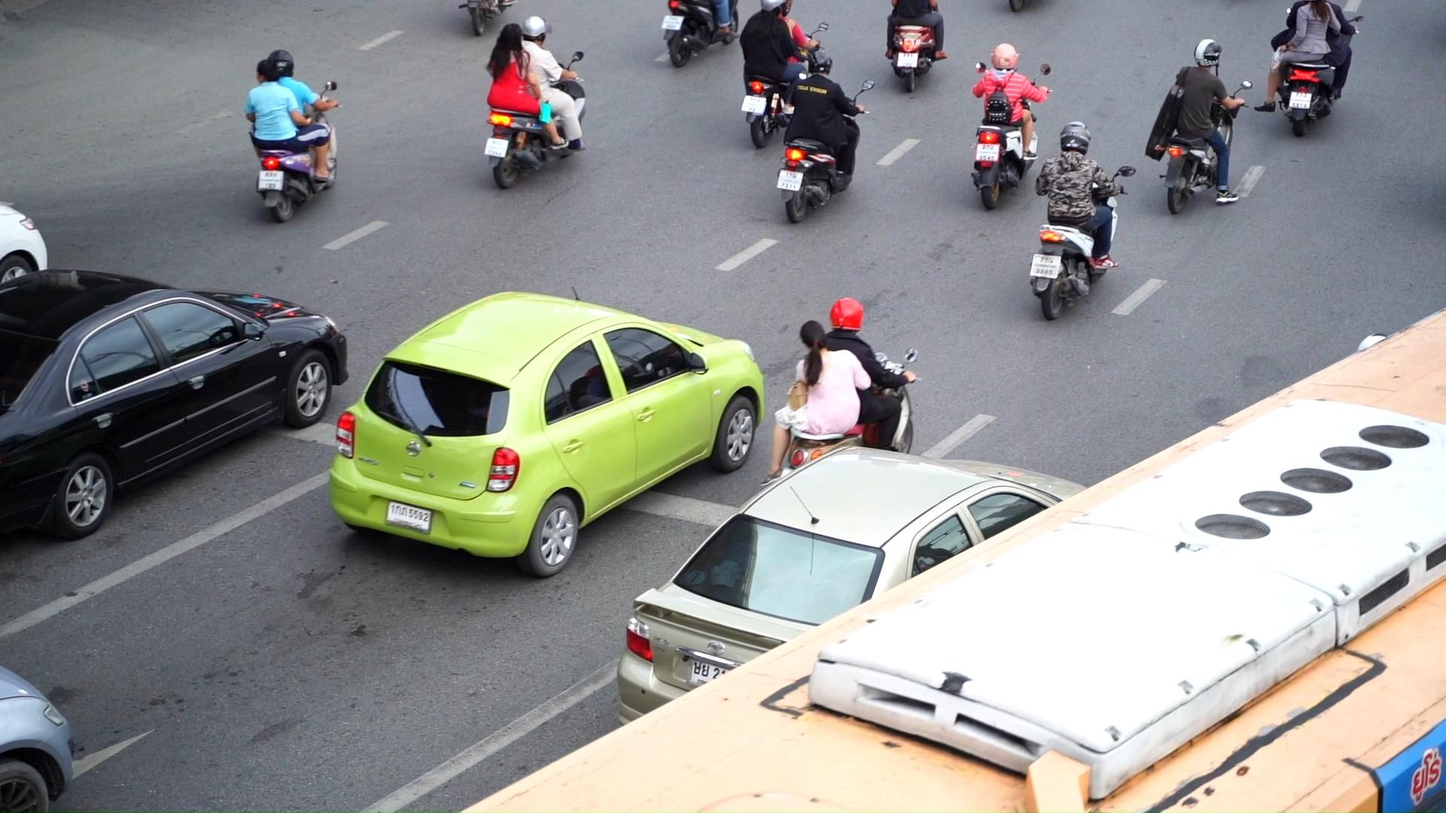driver: (759, 298, 922, 488), (1029, 121, 1136, 320), (1145, 39, 1253, 215), (483, 16, 586, 189), (776, 51, 875, 224), (246, 49, 344, 222), (1254, 0, 1363, 136), (970, 43, 1054, 210), (740, 1, 829, 148), (885, 0, 948, 93)
helmet: (830, 298, 864, 332), (1060, 121, 1091, 154), (523, 16, 551, 46), (990, 43, 1019, 71), (1194, 39, 1222, 68), (268, 50, 294, 77), (809, 51, 832, 77)
no-helmet: (799, 320, 827, 351), (256, 58, 280, 83), (497, 23, 522, 47)
